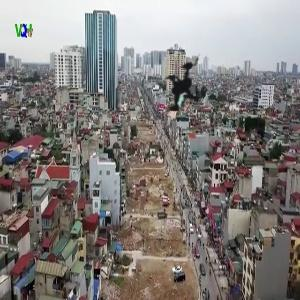drone: (128, 14, 278, 164)
